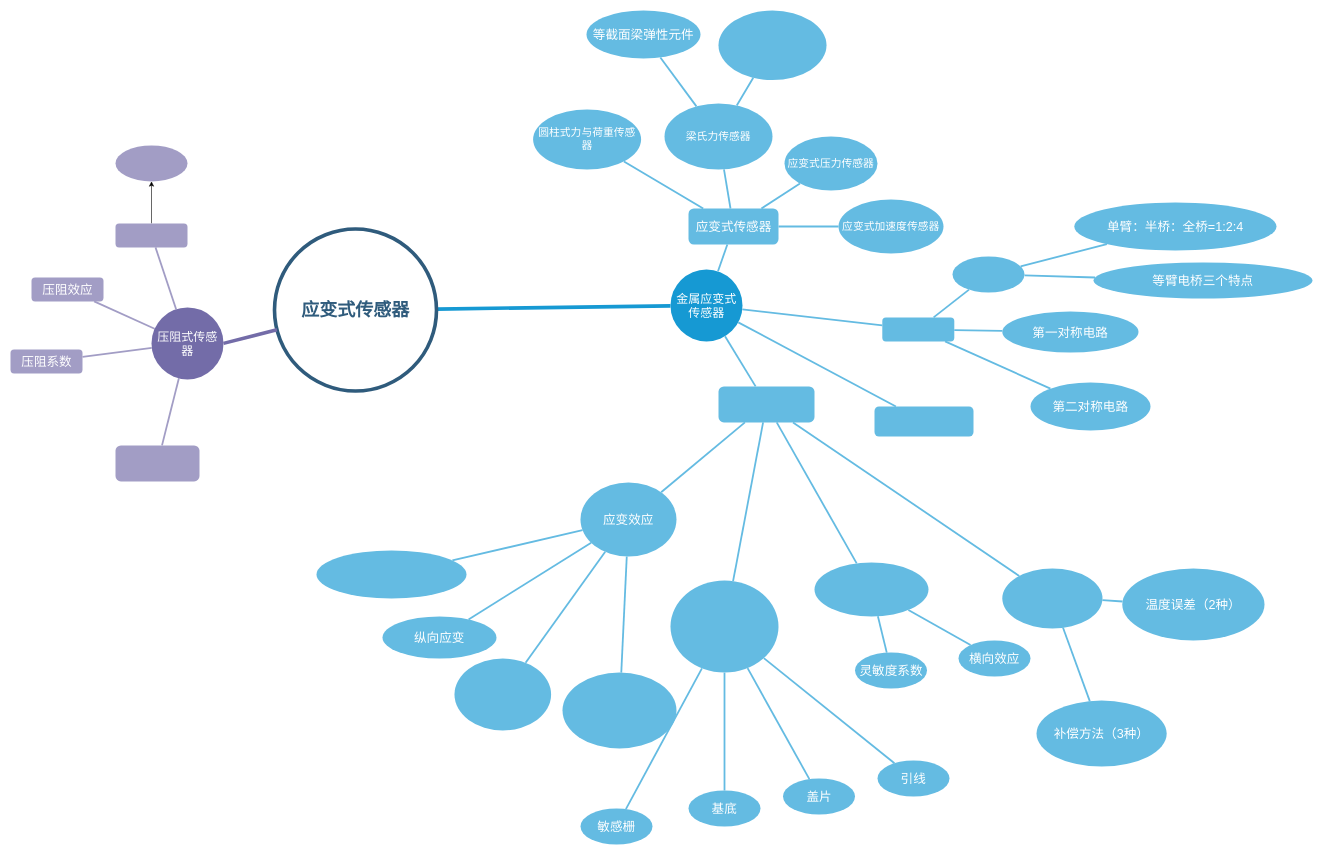
Image size: 1322x854. Some labels were removed from this diagram. Here are the shapes that lost their labels. From the top down, the centre of each, then its label:
At (x=772, y=45): "等强度梁弹性元件".
At (x=151, y=235): "晶相、晶体".
At (x=988, y=274): "等臂电路".
At (x=918, y=329): "测量电路".
At (x=766, y=404): "金属箔式应变片".
At (x=923, y=421): "金属丝式应变片".
At (x=157, y=463): "固态压阻器件".
At (x=391, y=574): "轴向应变".
At (x=871, y=589): "主要特性".
At (x=1052, y=598): "测量误差及补偿".
At (x=724, y=626): "应变片结构与材料".
At (x=502, y=694): "泊松比".
At (x=619, y=710): "金属丝应变灵敏系数".
